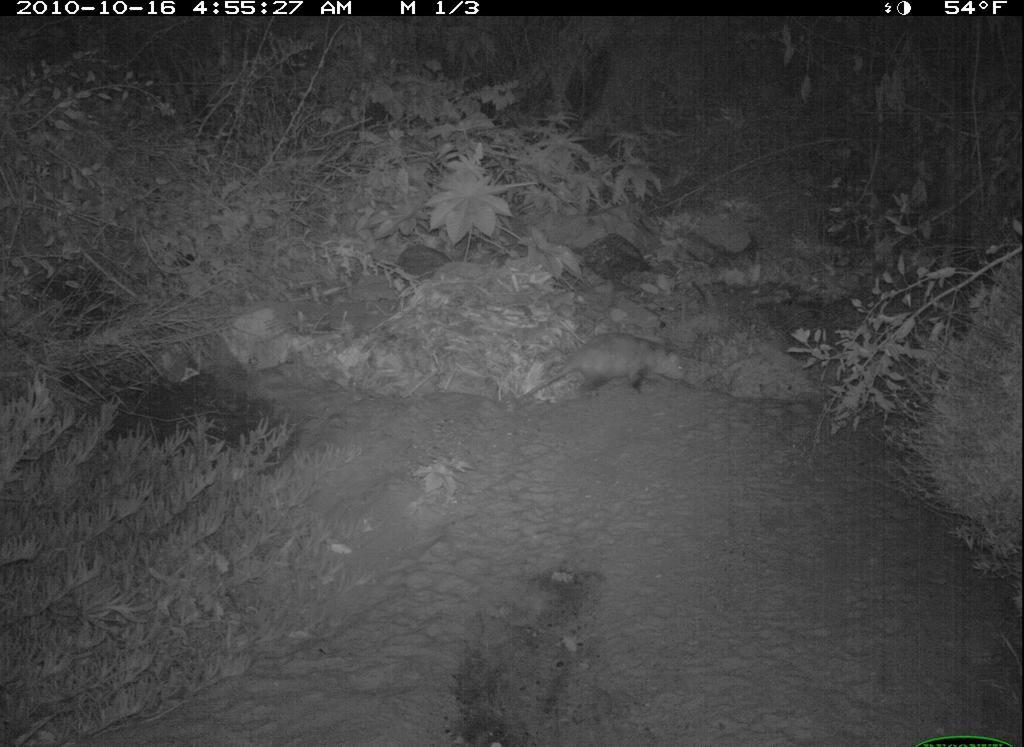opossum: (509, 328, 698, 411)
